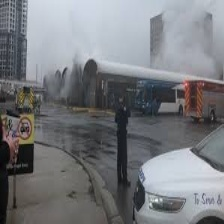smoke: (170, 5, 211, 71)
